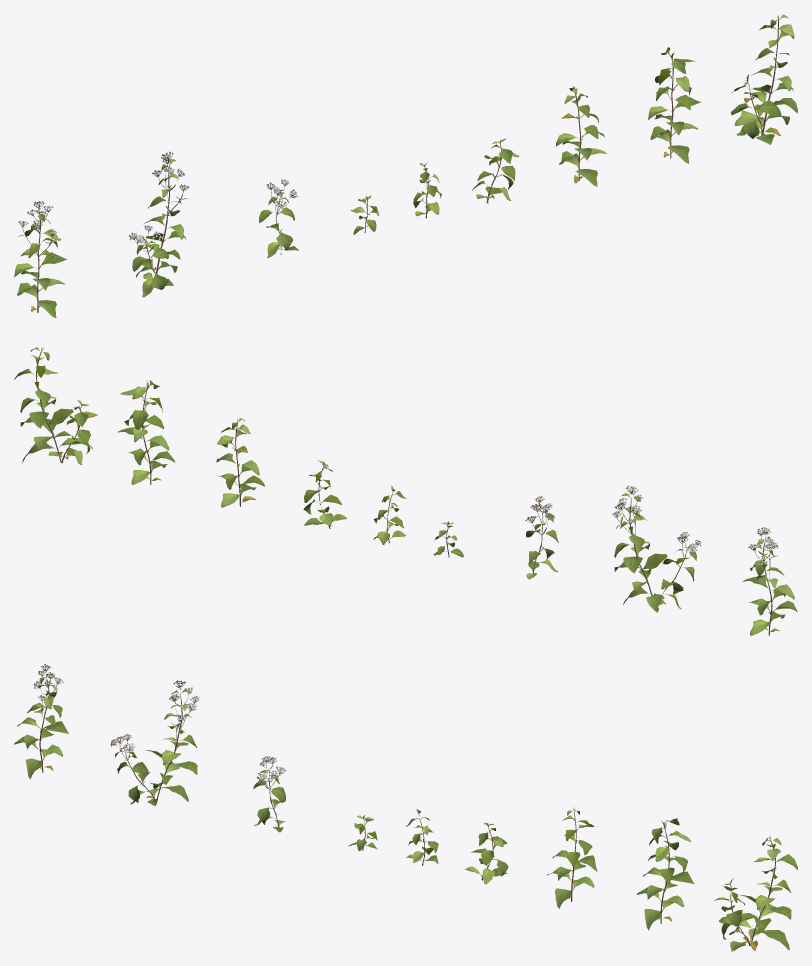
File: bush_a.glb
The picture shows the model from 3 angles, top to bottom: view 1: azimuth 30°, elevation 25°; view 2: azimuth 150°, elevation 25°; view 3: azimuth 330°, elevation 25°; orthographic projection. The views are drawn at different scales.
Visible parts, largest first — view 1: out; view 2: out; view 3: out.
Part boxes in pixels (bbox=[...]): out: bbox=[14, 14, 797, 318]; out: bbox=[14, 347, 797, 635]; out: bbox=[14, 664, 797, 951].
Bounding box in the file's own units: 2.58 × 0.394 × 0.2164.
Materials: 1 (1 with a texture image).
